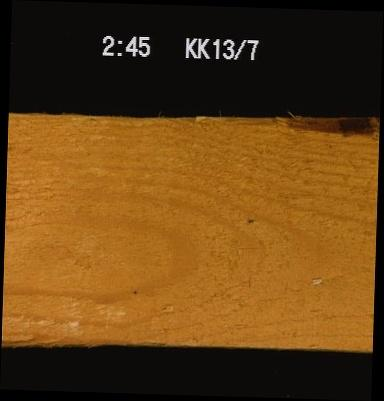small_knot: (243, 214, 254, 226)
wave: (284, 113, 376, 136)
